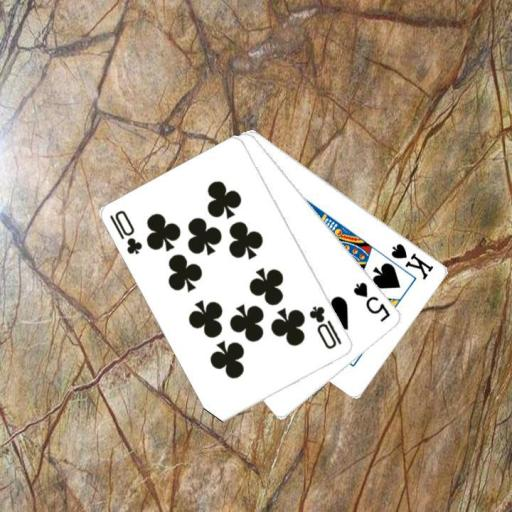10C: (307, 303, 344, 352), (107, 207, 144, 256)
5S: (351, 279, 393, 324)
KS: (388, 240, 436, 281)
